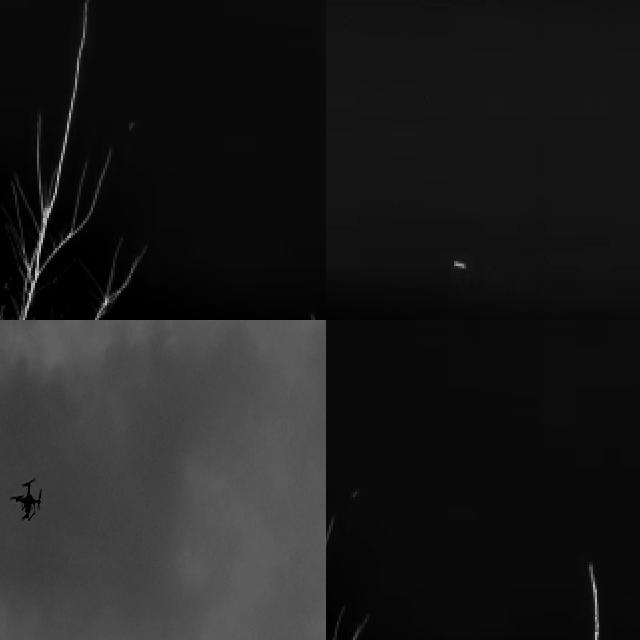0: (122, 110, 144, 140), (345, 480, 367, 510)
1: (443, 252, 477, 285)
drone: (12, 477, 44, 527)
